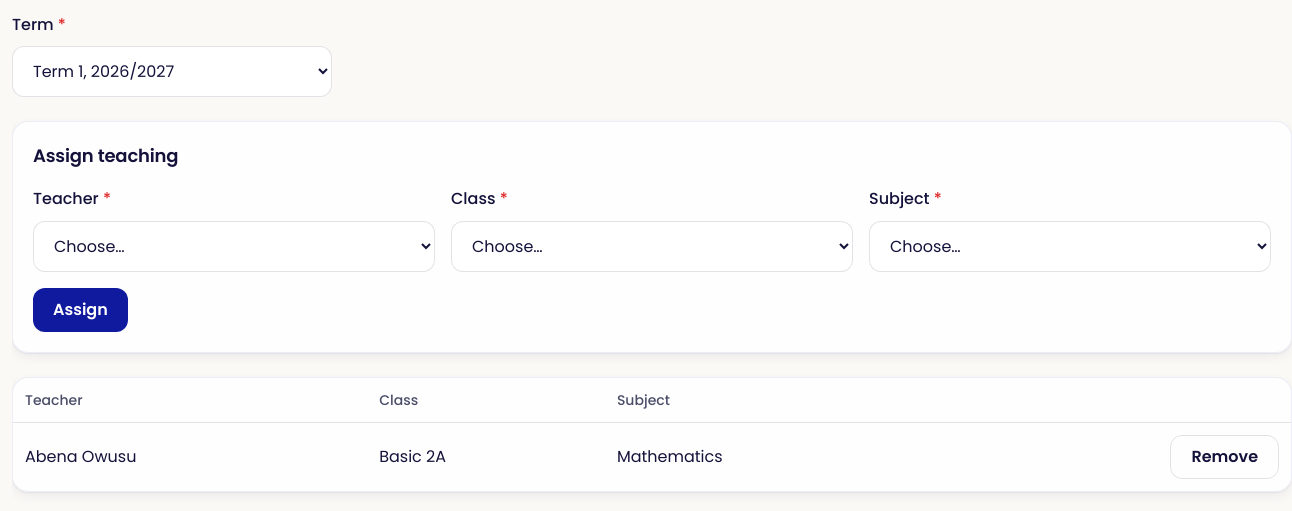
Test: TeachingView › removes an assignment
Click the button with aria-label "Remove Abena Owusu, Mathematics, Basic 2A" at point(1225, 457), box [1170,435,1279,479]
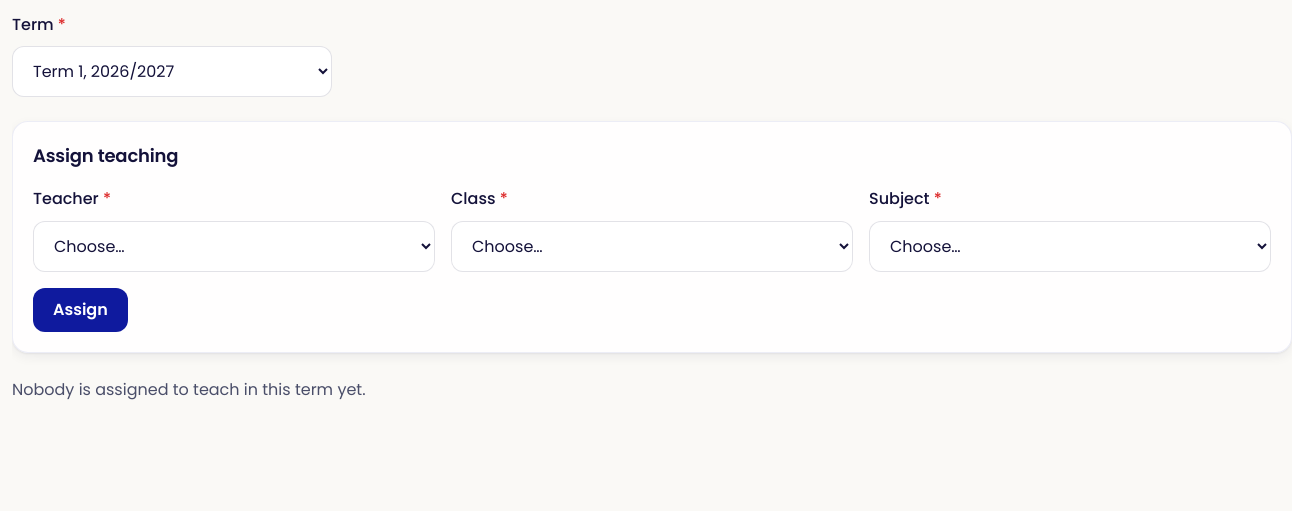
Now the text "Nobody is assigned to teach in this term yet." is shown, box [12,378,366,401]
